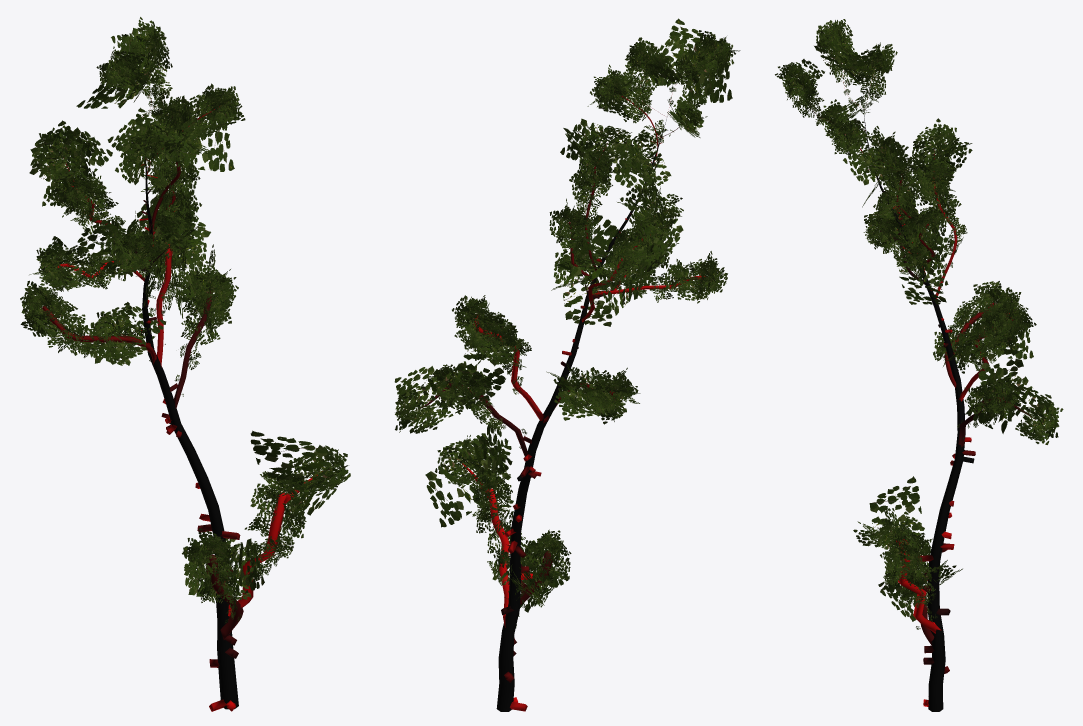
File: Tree_12.fbx
3 renders of one model, left to right at view 1: azimuth 30°, elevation 25°; view 2: azimuth 150°, elevation 25°; view 3: azimuth 270°, elevation 25°, orthographic. The views are drawn at different scales.
Visible parts, largest first — view 1: Tree_17; view 2: Tree_17; view 3: Tree_17.
Part boxes in pixels (x1,y1,x2,y2): Tree_17: (20, 17, 350, 711); Tree_17: (394, 18, 740, 711); Tree_17: (775, 19, 1063, 711).
Size of the model in its own units: 1205 by 2597 by 1114.
